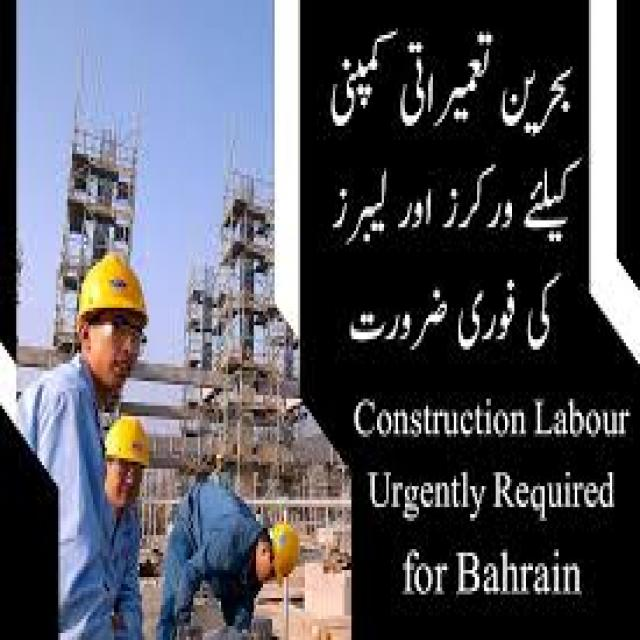Safety-Helmet: (68, 242, 158, 340), (93, 406, 158, 482), (261, 510, 305, 588)
